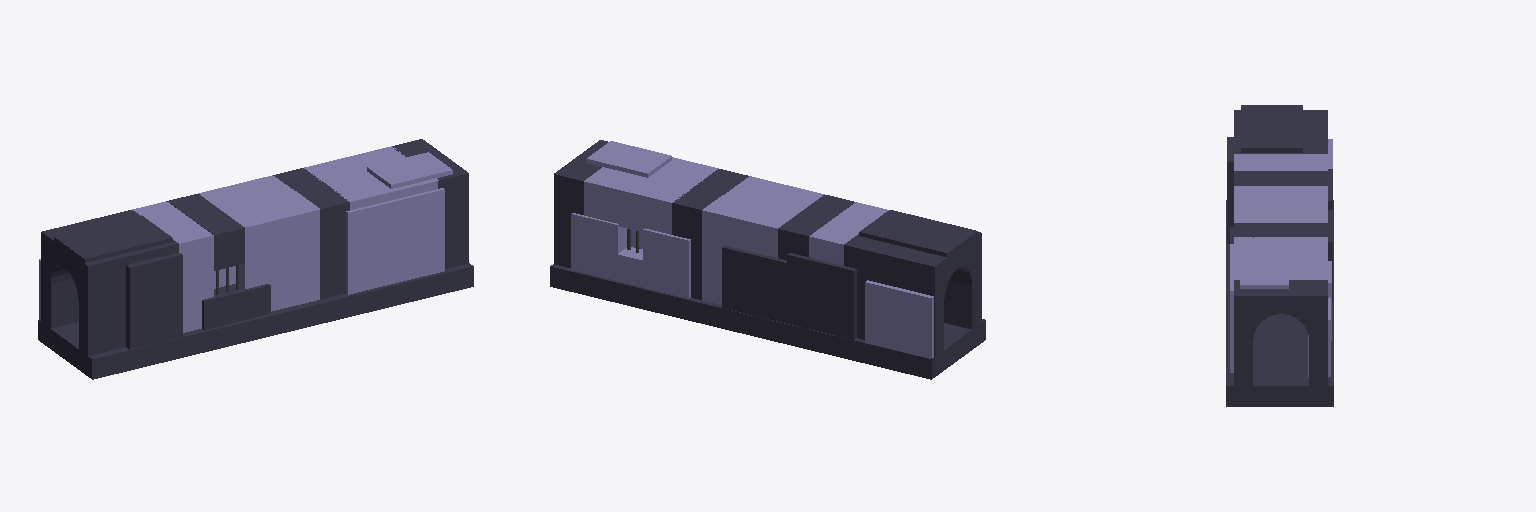
Rendered from LongHallwayWithWindow.obj.
3 renders of one model, left to right at view 1: azimuth 30°, elevation 25°; view 2: azimuth 150°, elevation 25°; view 3: azimuth 270°, elevation 25°, orthographic.
Visible parts, largest first — view 1: block_gate%, block; view 2: block, block_gate%; view 3: block_gate%, block.
Boxes of the visible parts, box(x1,y1,x2,y2) form: block_gate%: box(41, 139, 468, 355); block: box(38, 152, 473, 379); block: box(550, 141, 985, 379); block_gate%: box(554, 140, 981, 356); block_gate%: box(1234, 110, 1327, 385); block: box(1226, 105, 1333, 406).
Bounding box in the file's own units: 6.48 × 1.87 × 1.6.